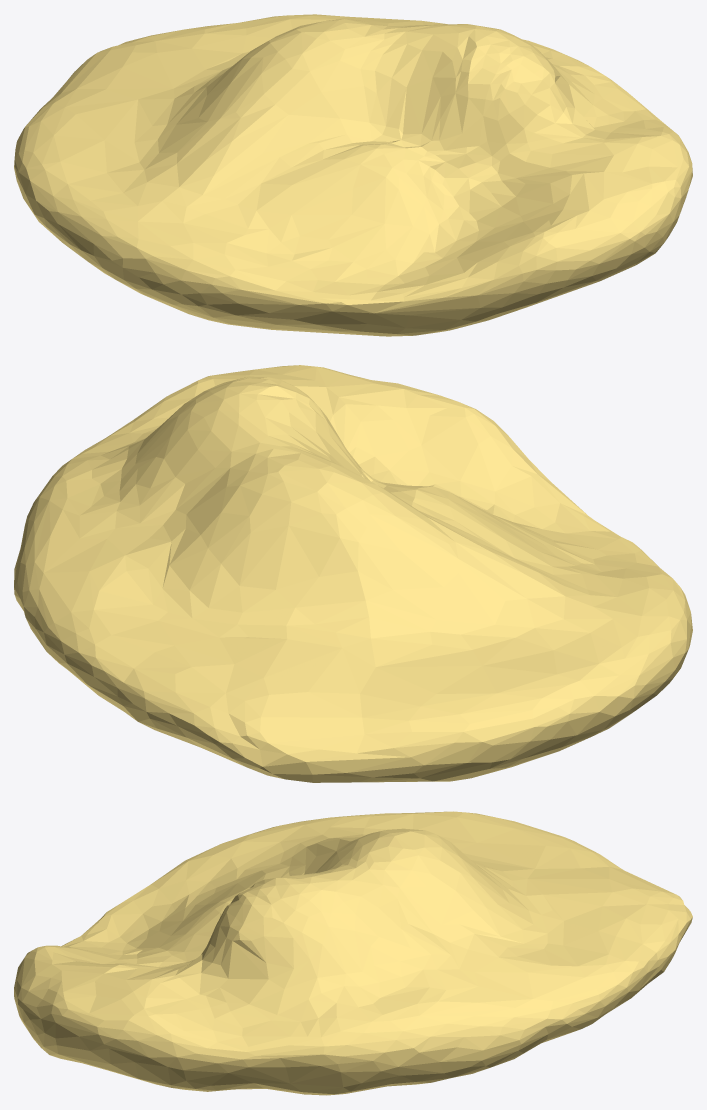
Rendered from Island3.fbx.
3 views of the same model, one above another, from view 1: azimuth 30°, elevation 25°; view 2: azimuth 150°, elevation 25°; view 3: azimuth 270°, elevation 25° (orthographic). The views are drawn at different scales.
Visible parts, largest first — view 1: Island; view 2: Island; view 3: Island.
Boxes of the visible parts, <box> form: Island: <box>14,14,692,336</box>; Island: <box>14,365,692,782</box>; Island: <box>14,811,692,1095</box>.
Size of the model in its own units: 5127 by 1945 by 5590.
